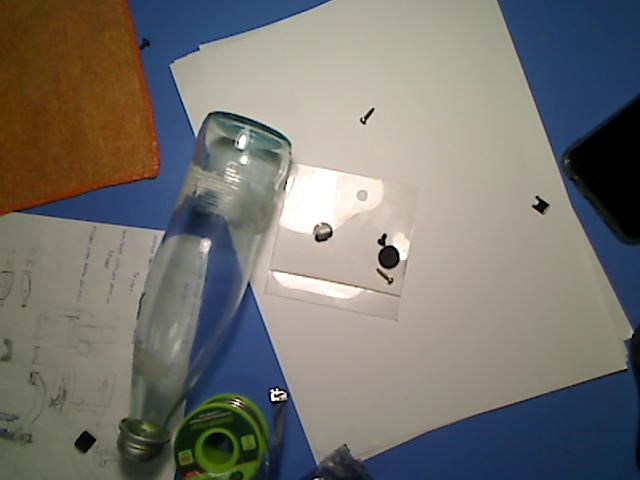bottle: (115, 110, 293, 465)
